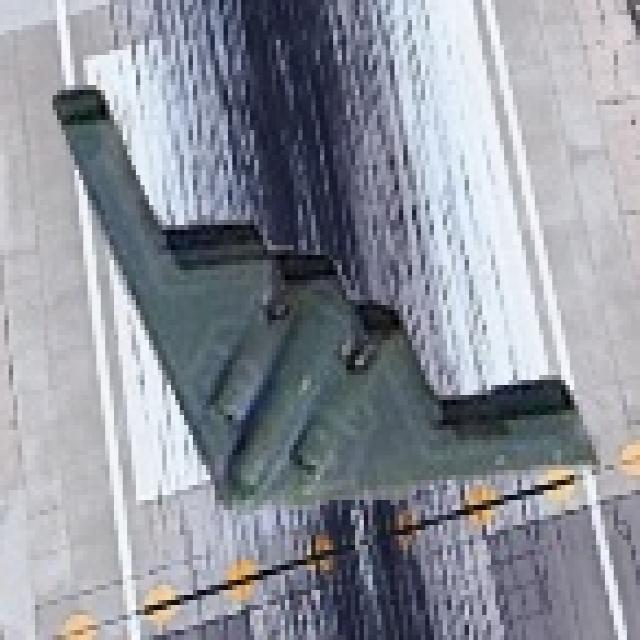B-2_TopDown: (44, 77, 596, 515)
